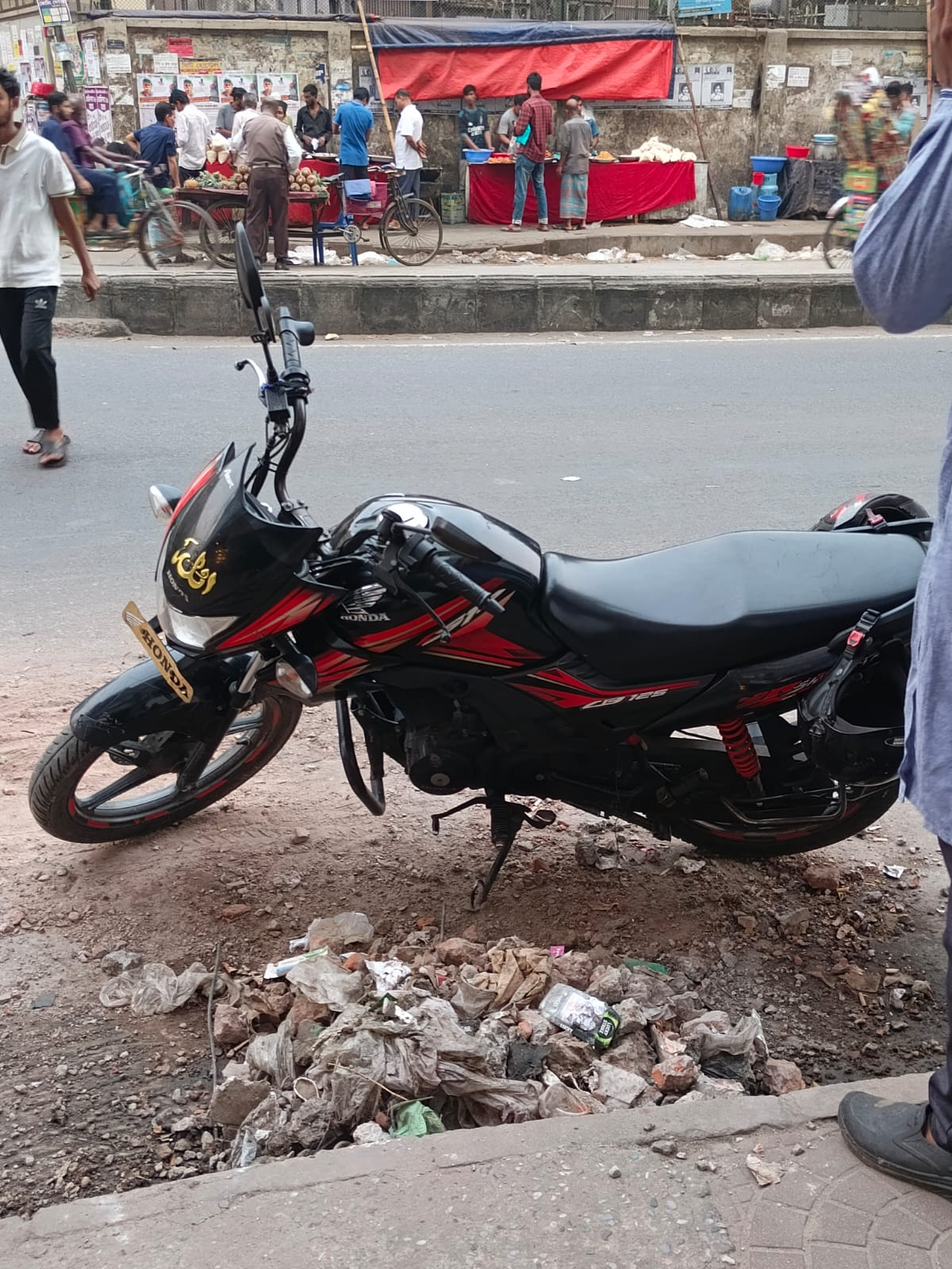Bikes: (32, 299, 931, 875)
